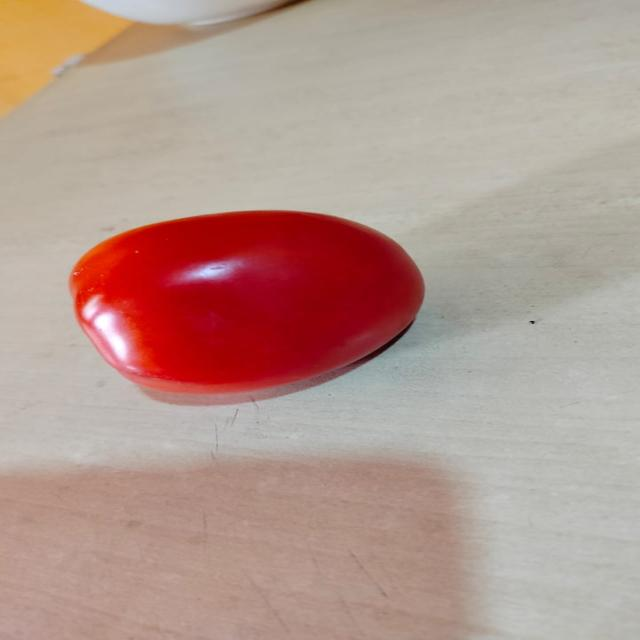tomato: (69, 211, 427, 409)
